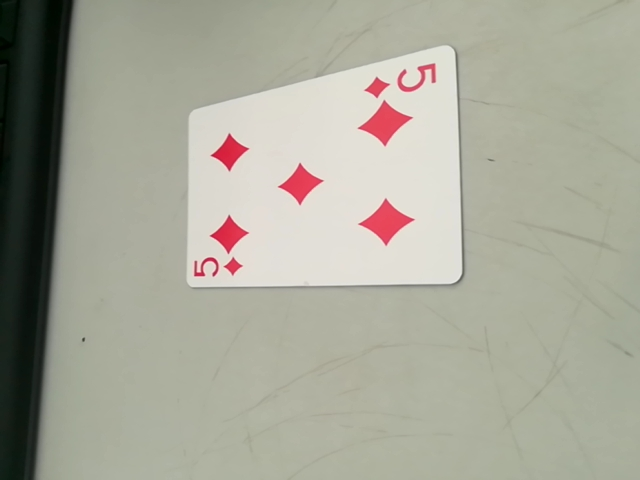fk 5: (363, 59, 444, 100), (191, 252, 248, 286)
